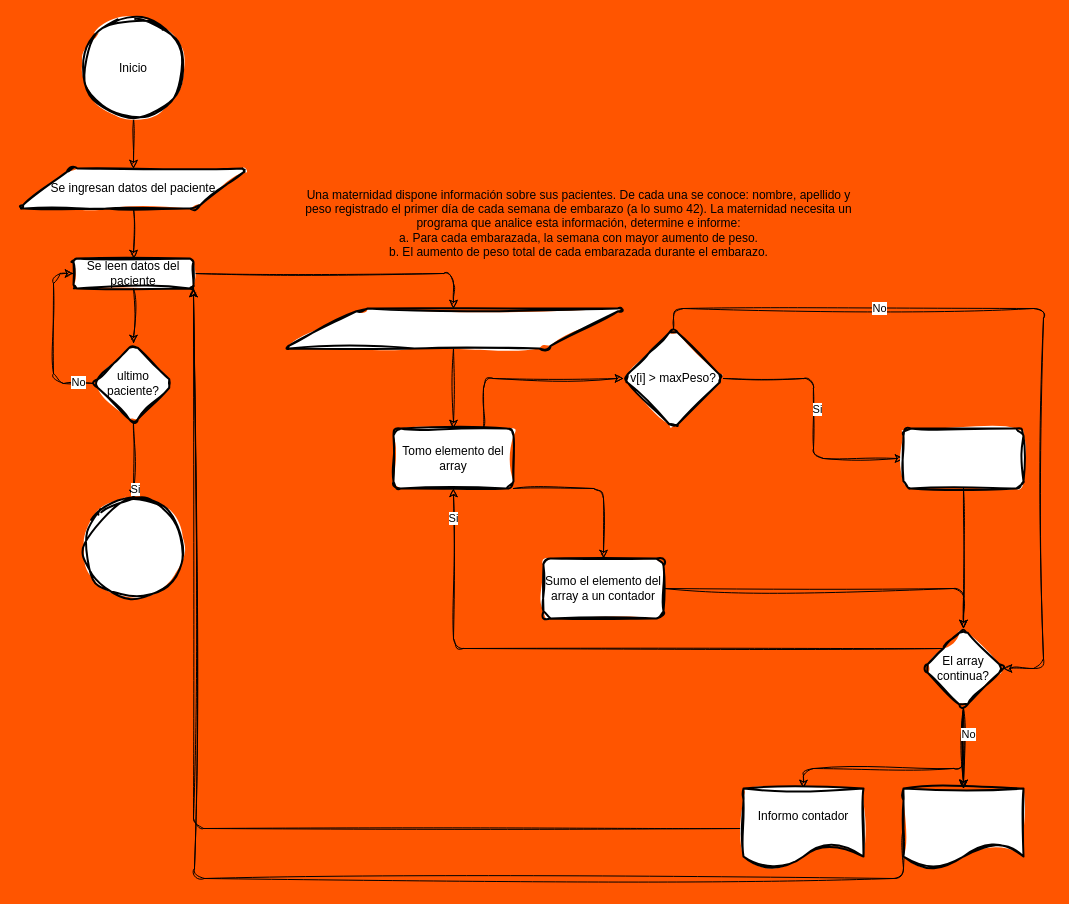
The diagram is 1069 pixels wide and 904 high, and some of its shapes have lost their labels. Each missing label, with the centre of its shape:
"Fin" belongs at point 133,548.
"Informo maxPeso" belongs at point 963,828.
"Remplazo maxPeso x v[i] actual" belongs at point 963,458.
"Se envian semanas de embarazo del paciente" belongs at point 453,328.
